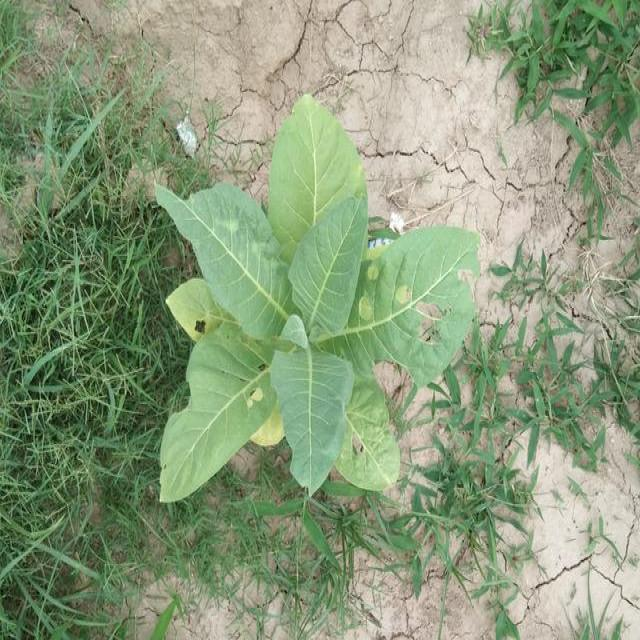crop: (152, 90, 484, 512)
